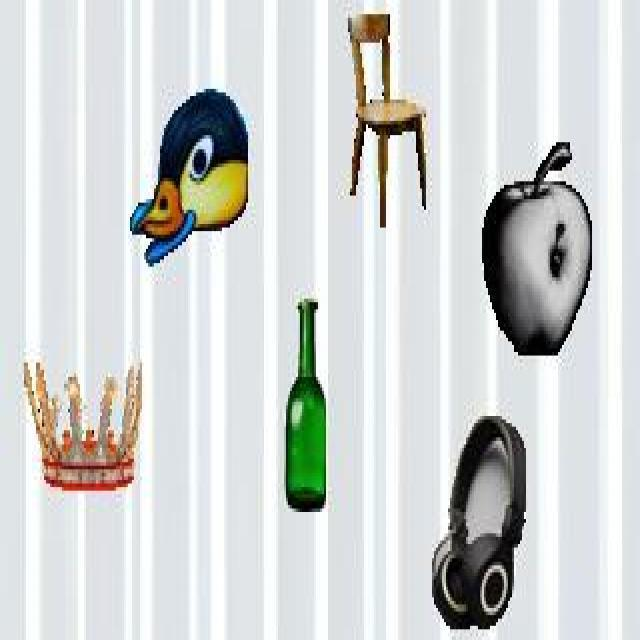Other Objects: (481, 138, 592, 358), (130, 84, 248, 266), (432, 414, 528, 630), (22, 358, 144, 492), (284, 296, 328, 514)
